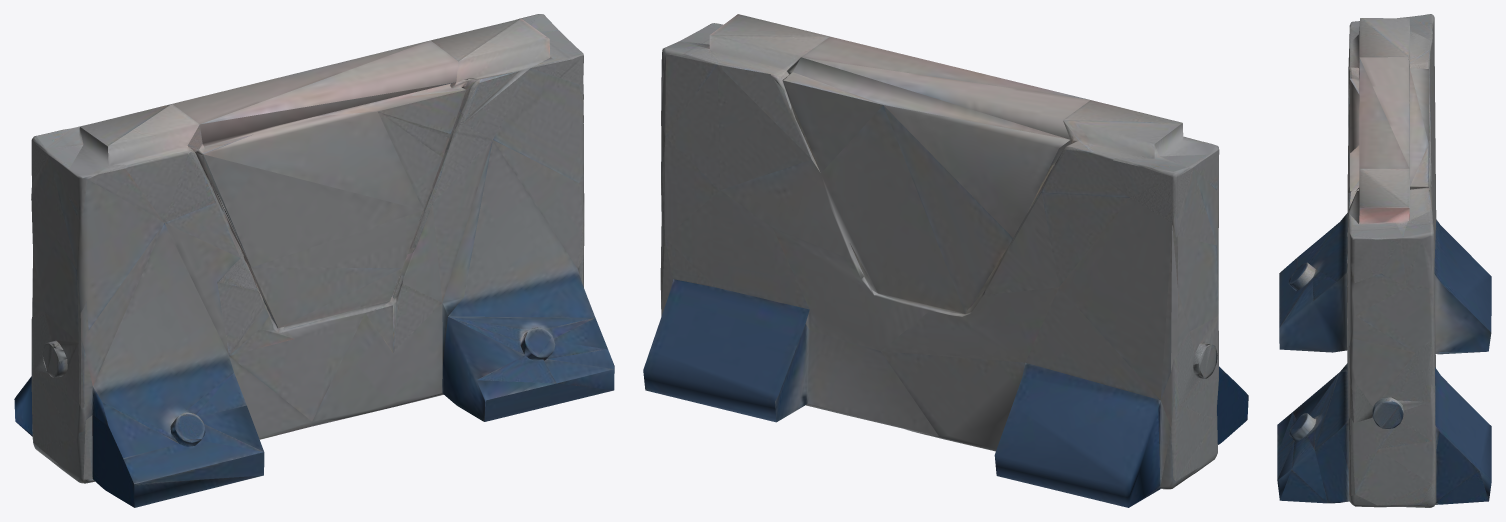
Rendered from deco_barriere.glb.
3 renders of one model, left to right at view 1: azimuth 30°, elevation 25°; view 2: azimuth 150°, elevation 25°; view 3: azimuth 270°, elevation 25°, orthographic. The views are drawn at different scales.
Visible parts, largest first — view 1: mesh_node; view 2: mesh_node; view 3: mesh_node.
Boxes of the visible parts, box(x1,y1,x2,y2) form: mesh_node: box(14, 14, 614, 507); mesh_node: box(643, 14, 1248, 507); mesh_node: box(1277, 14, 1491, 507).
Bounding box in the file's own units: 1.9 × 1.15 × 0.7648.
1 material, 1 textured.
